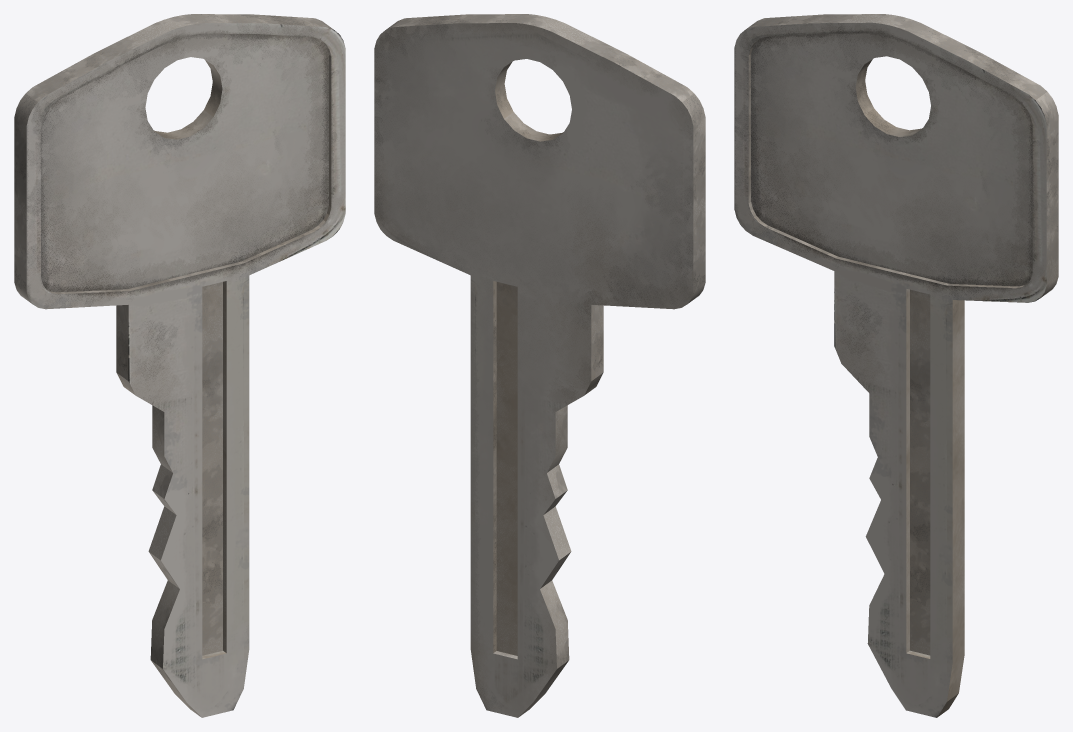
Rendered from Key.fbx.
The picture shows the model from 3 angles, left to right: view 1: azimuth 30°, elevation 25°; view 2: azimuth 150°, elevation 25°; view 3: azimuth 330°, elevation 25°; orthographic projection. The views are drawn at different scales.
Parts seen in each view (by area): view 1: Key; view 2: Key; view 3: Key.
Part boxes in pixels (x1=…): Key: x1=14, y1=14, x2=345, y2=717; Key: x1=374, y1=14, x2=705, y2=717; Key: x1=734, y1=14, x2=1058, y2=717.
Size of the model in its own units: 28.1 by 58.61 by 1.87.
